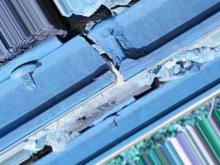tracks_fault: (68, 21, 141, 86)
